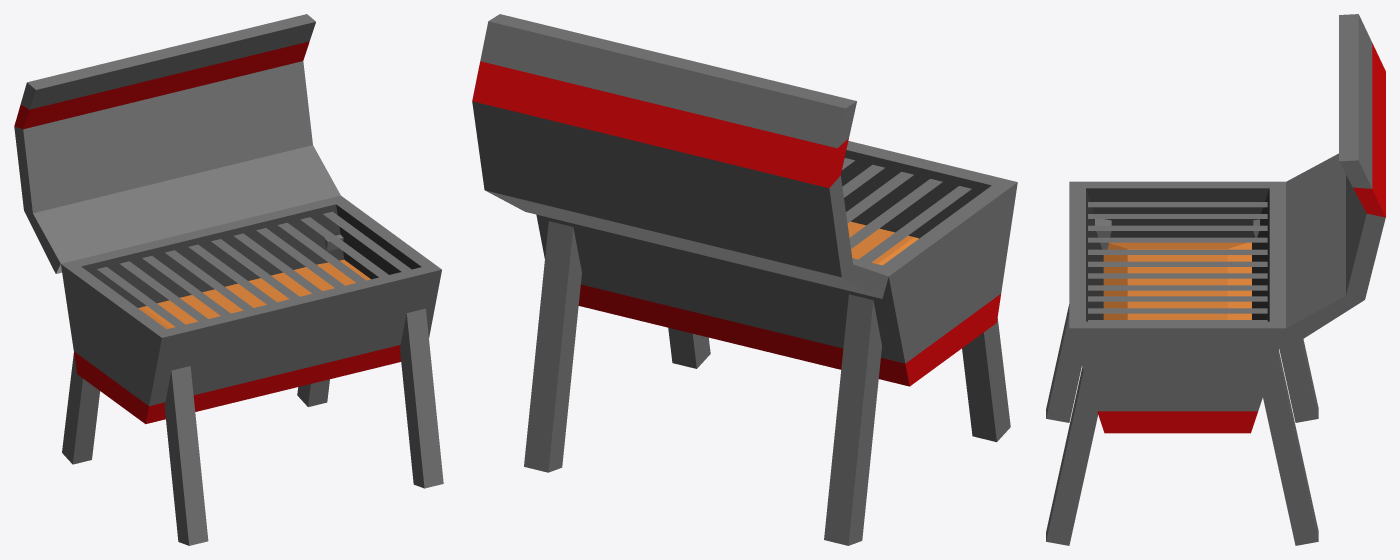
File: Grill.fbx
3 renders of one model, left to right at view 1: azimuth 30°, elevation 25°; view 2: azimuth 150°, elevation 25°; view 3: azimuth 270°, elevation 25°, orthographic. The views are drawn at different scales.
Parts seen in each view (by area): view 1: Cube; view 2: Cube; view 3: Cube.
Part boxes in pixels (x1,y1,x2,y2): Cube: (14,14,443,545); Cube: (472,14,1017,545); Cube: (1046,14,1385,545).
Bounding box in the file's own units: 320 × 398 × 314.
